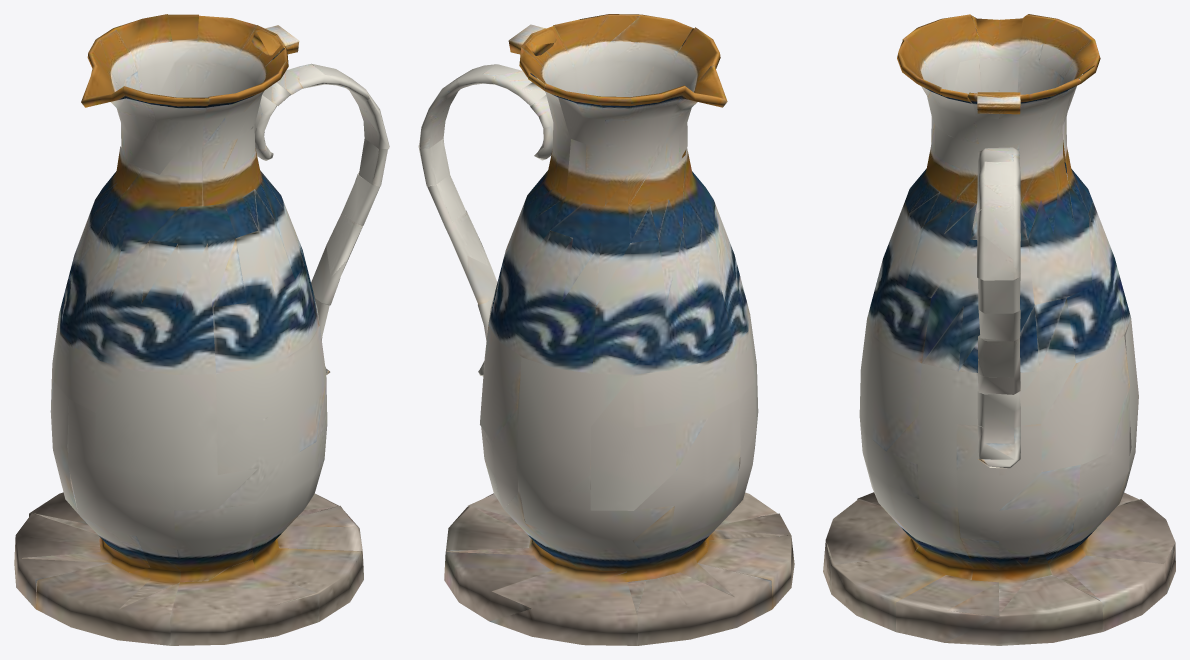
The model's file is keepsake-water-jug.glb.
3 renders of one model, left to right at view 1: azimuth 30°, elevation 25°; view 2: azimuth 150°, elevation 25°; view 3: azimuth 270°, elevation 25°, orthographic.
Visible parts, largest first — view 1: keepsake-water-jug; view 2: keepsake-water-jug; view 3: keepsake-water-jug.
Part boxes in pixels (x1,y1,x2,y2): keepsake-water-jug: (14,14,389,645); keepsake-water-jug: (418,14,794,645); keepsake-water-jug: (823,14,1175,645).
Bounding box in the file's own units: 0.3518 × 0.5011 × 0.3087.
Materials: 1 (1 with a texture image).
